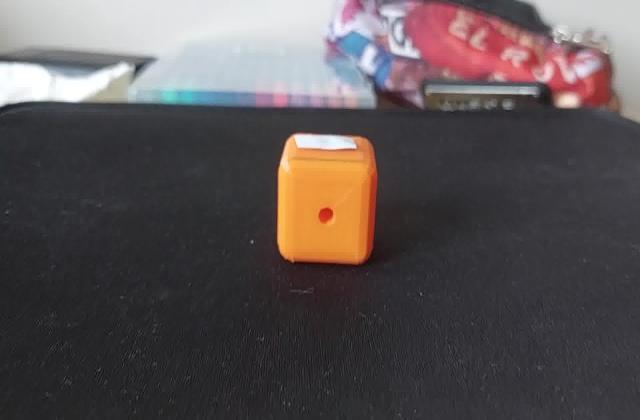cube: (272, 132, 378, 270)
white: (292, 134, 361, 151)
